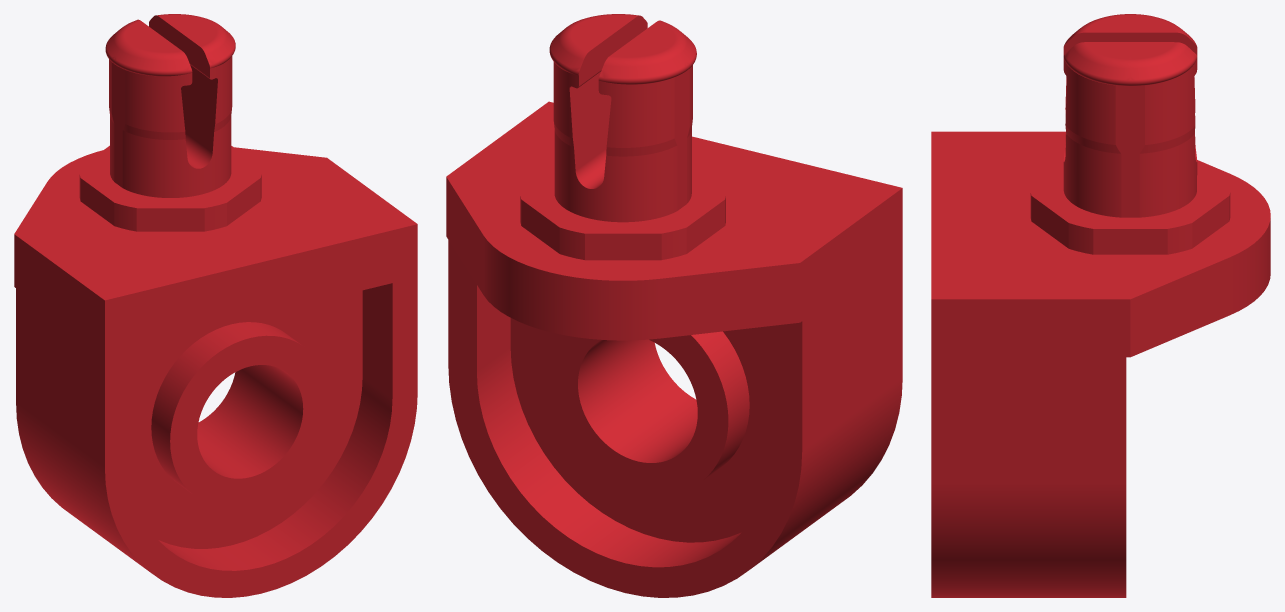
3 views of the same model, side by side, from view 1: azimuth 30°, elevation 25°; view 2: azimuth 150°, elevation 25°; view 3: azimuth 270°, elevation 25° (orthographic). The views are drawn at different scales.
Visible parts, largest first — view 1: 228-2500-2288; view 2: 228-2500-2288; view 3: 228-2500-2288.
Part boxes in pixels (x1,y1,x2,y2): 228-2500-2288: (14,14,417,597); 228-2500-2288: (446,14,902,597); 228-2500-2288: (931,14,1270,597).
Bounding box in the file's own units: 0.0124 × 0.0187 × 0.0106.
